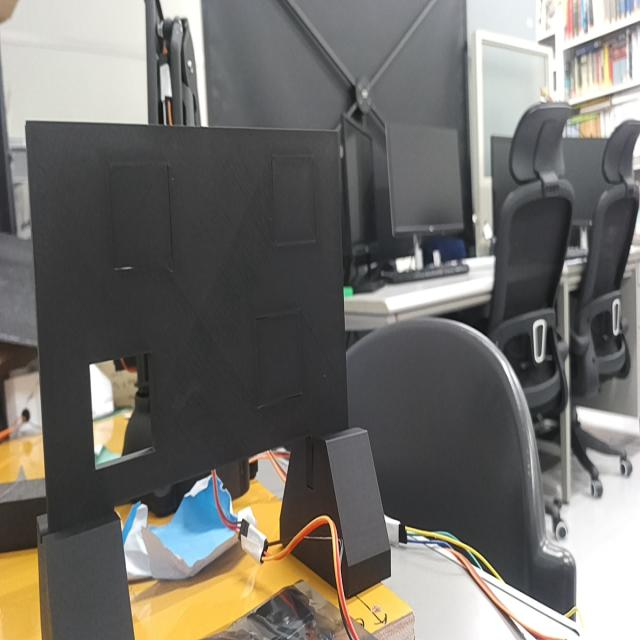Obstacle: (89, 349, 155, 473)
Wall: (28, 121, 348, 529)
